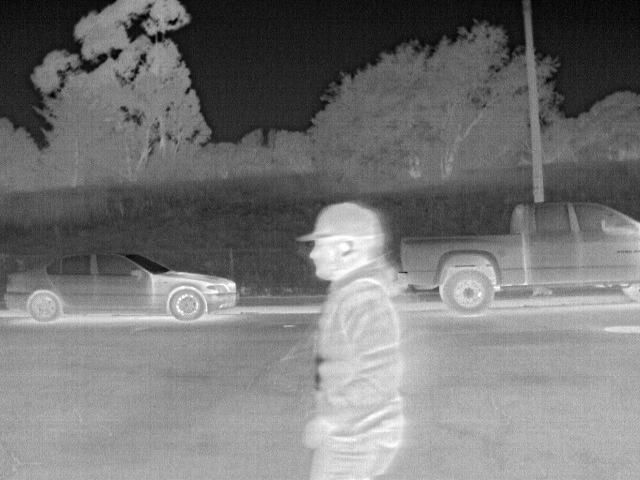car: (396, 200, 640, 314), (4, 251, 241, 322)
person: (294, 198, 412, 479)
